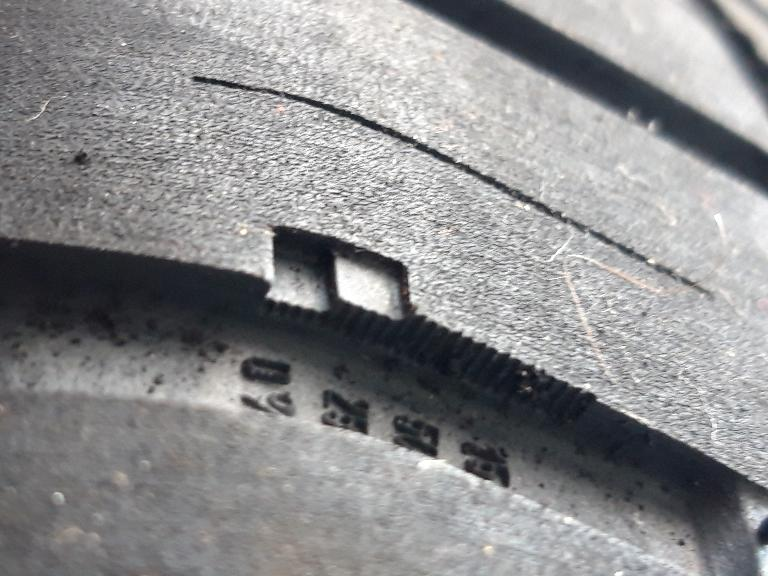temoin:25: (242, 213, 425, 382)
